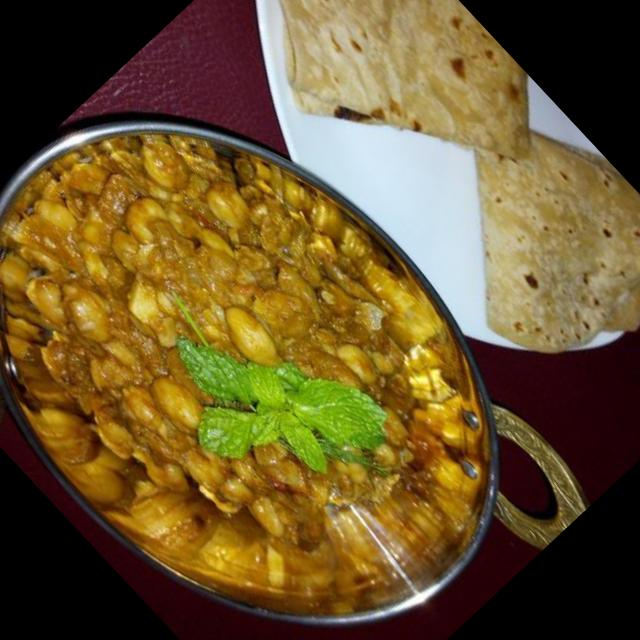Chole: (0, 70, 484, 616)
